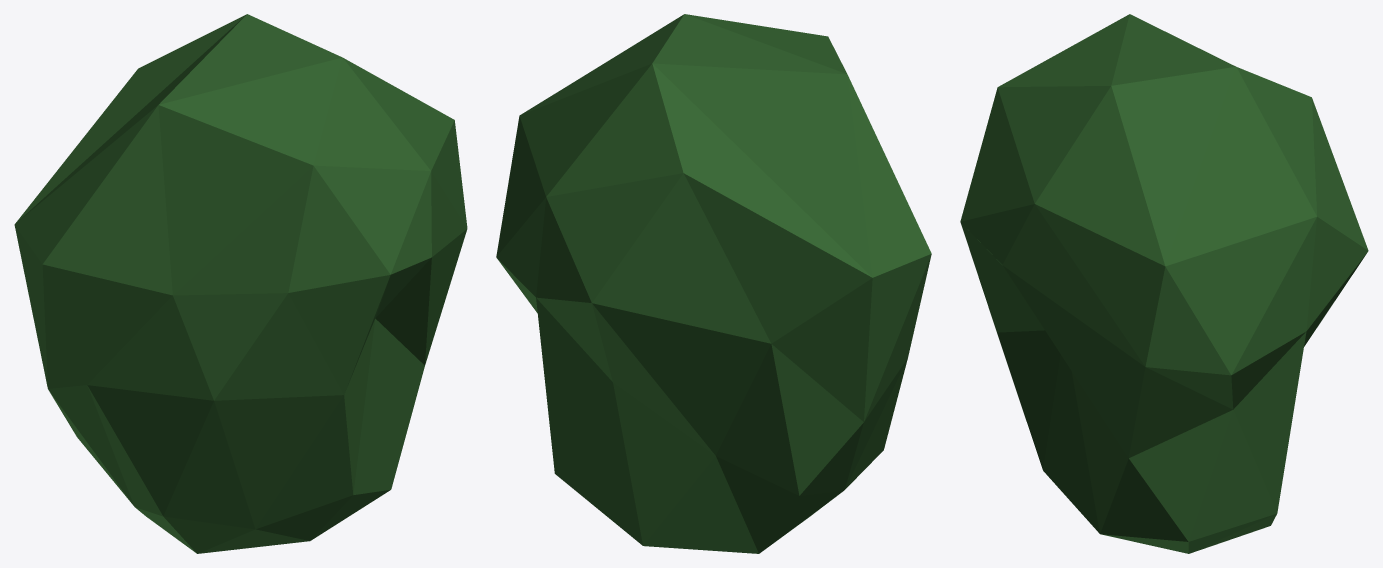
Rendered from Bush02.fbx.
The picture shows the model from 3 angles, left to right: view 1: azimuth 30°, elevation 25°; view 2: azimuth 150°, elevation 25°; view 3: azimuth 270°, elevation 25°; orthographic projection. The views are drawn at different scales.
Parts seen in each view (by area): view 1: Bush02; view 2: Bush02; view 3: Bush02.
Boxes of the visible parts, x1,y1,x2,y2 form: Bush02: (14, 14, 467, 553); Bush02: (496, 14, 931, 553); Bush02: (960, 14, 1368, 553).
Size of the model in its own units: 2 by 1.73 by 2.17.
